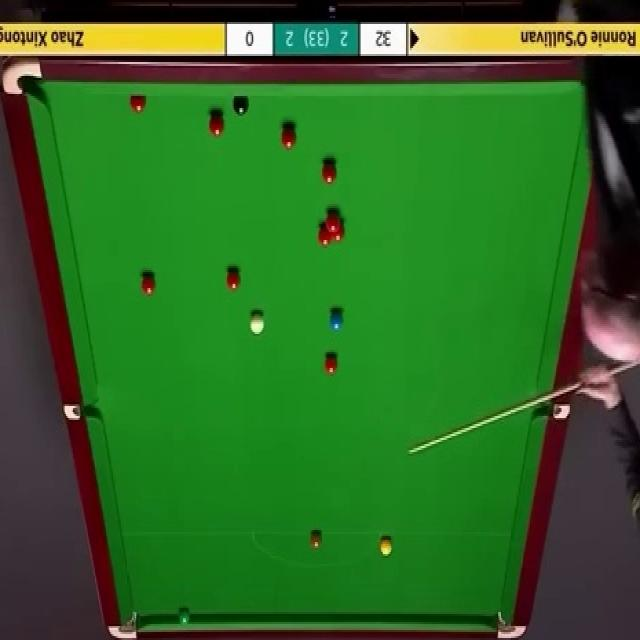black-ball: (233, 94, 251, 116)
blue-ball: (329, 307, 345, 332)
brown-ball: (310, 529, 324, 552)
green-ball: (176, 608, 191, 626)
red-ball: (224, 265, 242, 293), (321, 157, 338, 185), (280, 124, 297, 151), (209, 111, 226, 137), (322, 350, 338, 374), (141, 272, 156, 297), (318, 222, 332, 246), (130, 94, 146, 114), (326, 210, 339, 230), (332, 222, 345, 242)
white-ball: (248, 310, 266, 338)
yellow-ball: (380, 537, 394, 557)
